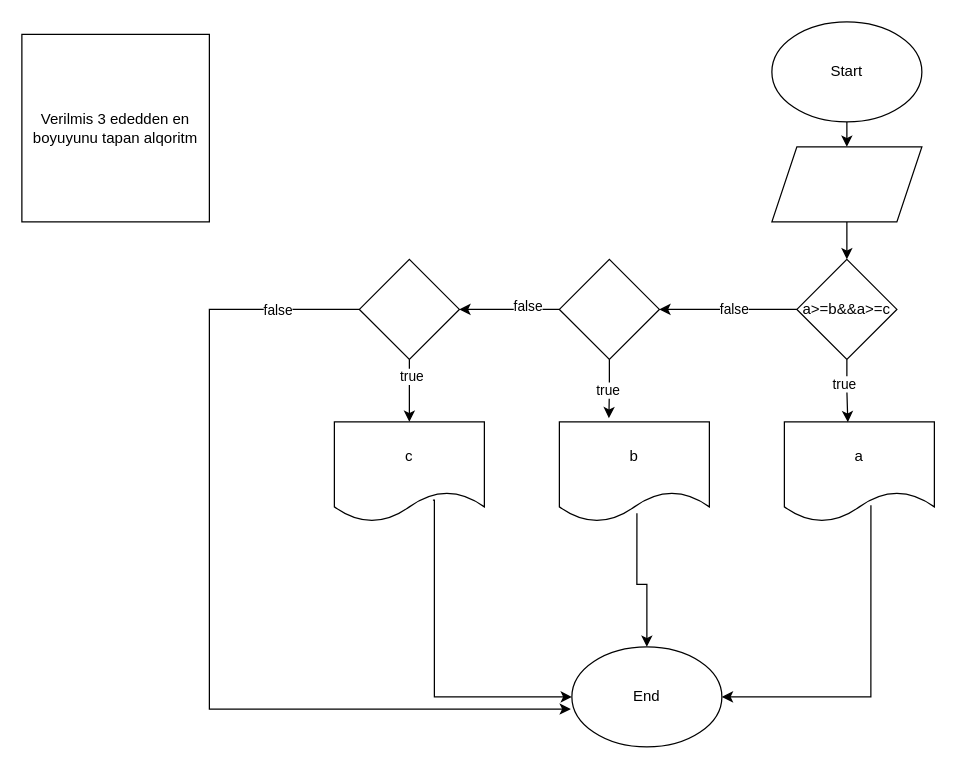
The diagram is 956 pixels wide and 769 high, and some of its shapes have lost their labels. The shapes that lost their labels are listed below. From the top down, each one's centre as x and y in pixels, then its label:
the point at 846,184: a,b,c
the point at 408,308: c>=a&&c>=b
the point at 608,308: b>=a&&b>=c
